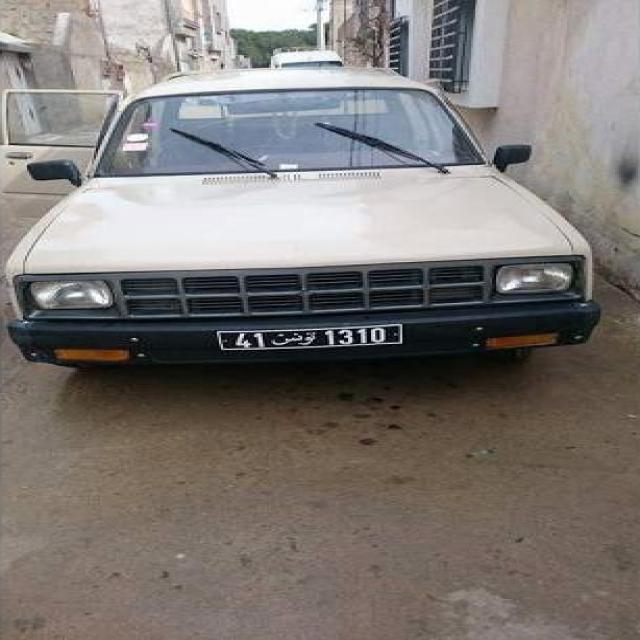licence plate: (220, 326, 400, 349)
